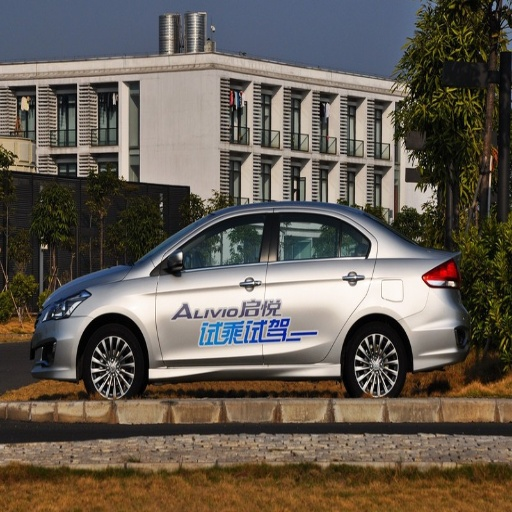back_left_door: (265, 211, 374, 364)
front_left_door: (155, 212, 273, 363)
